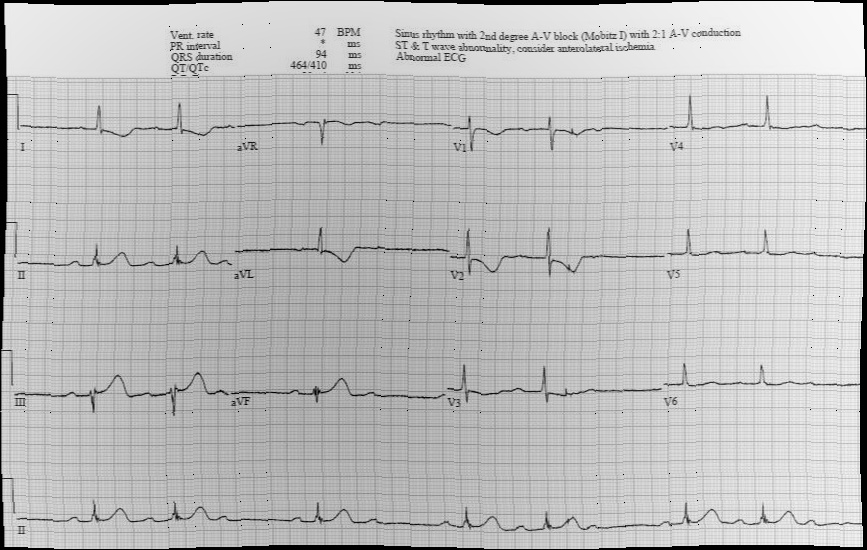Lead_I: (10, 96, 228, 163)
Lead_II: (10, 222, 231, 288)
Lead_III: (10, 353, 231, 425)
Lead_II_ext: (10, 480, 867, 547)
Lead_V1: (446, 97, 668, 160)
Lead_V2: (447, 213, 667, 290)
Lead_V3: (447, 352, 668, 428)
Lead_V4: (667, 83, 867, 173)
Lead_V5: (666, 215, 867, 295)
Lead_V6: (666, 348, 867, 431)
Lead_aVF: (230, 360, 449, 425)
Lead_aVL: (232, 217, 449, 290)
Lead_aVR: (228, 106, 451, 161)
